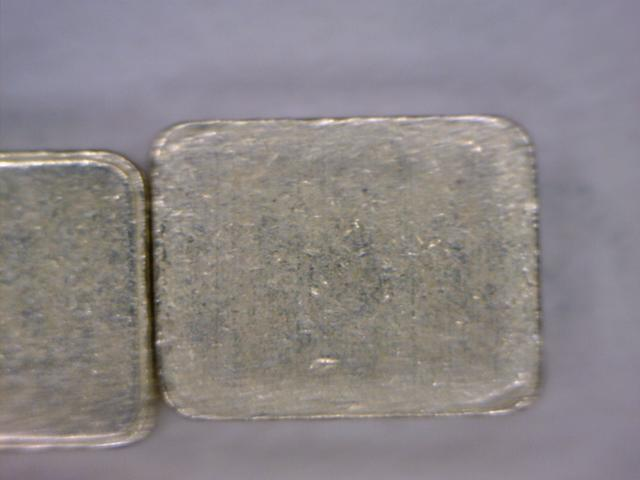ok: (153, 105, 565, 435)
